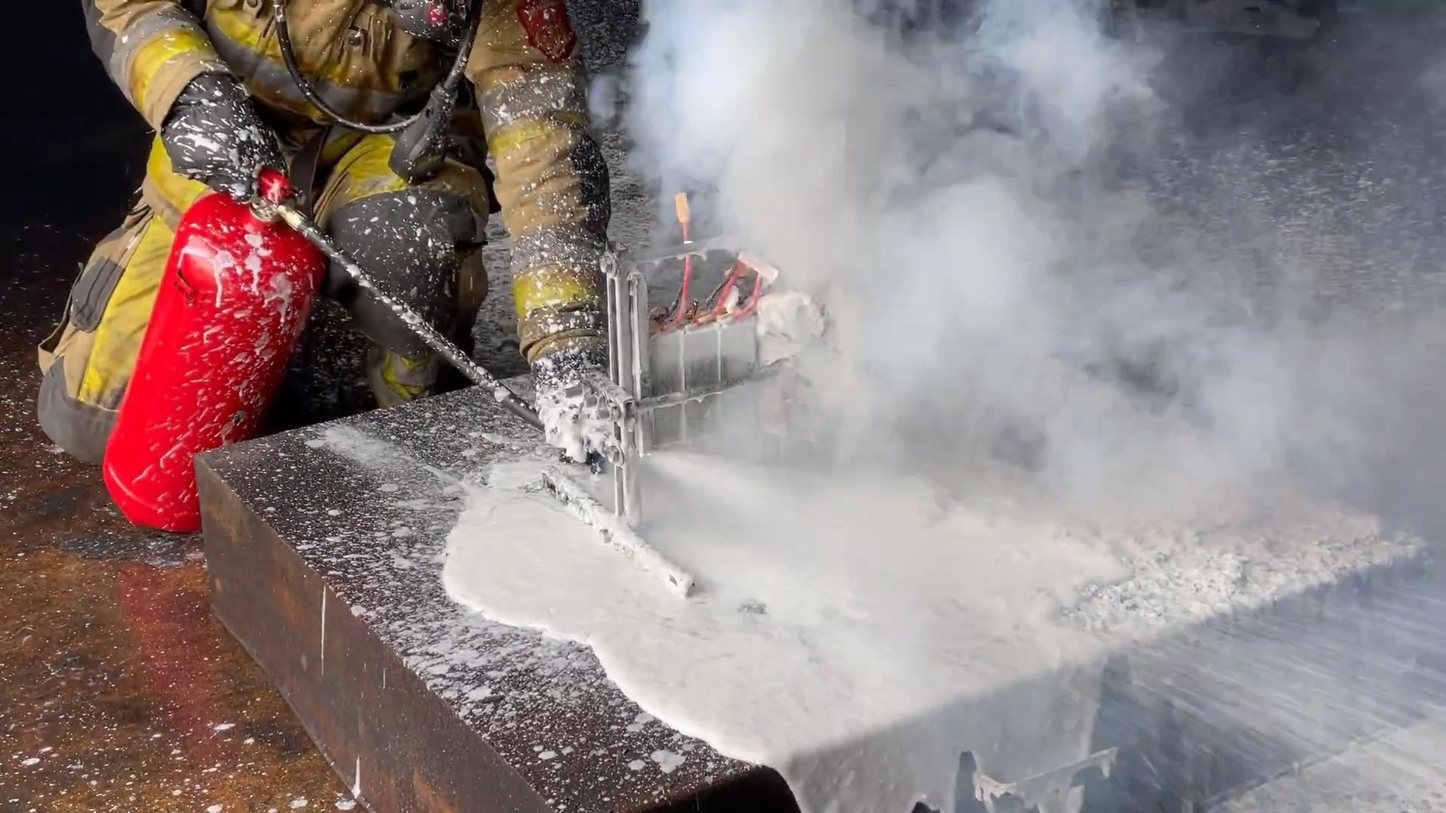smoke: (596, 0, 1194, 487)
